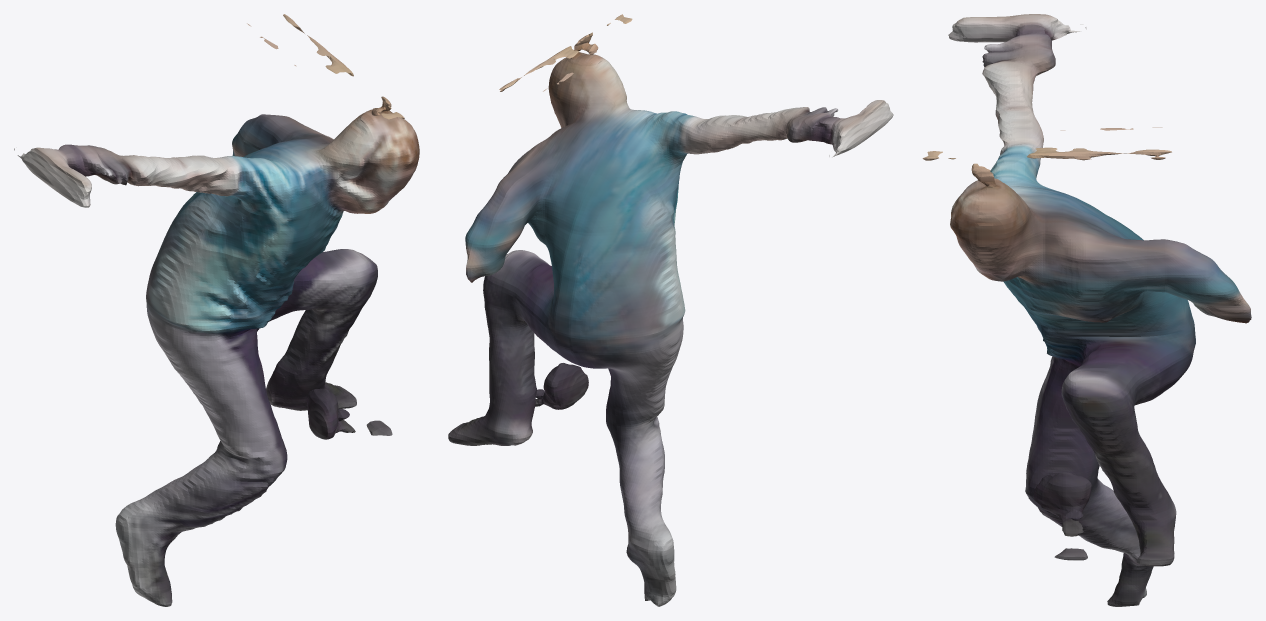
The model's file is 0045_tex.glb.
3 views of the same model, side by side, from view 1: azimuth 30°, elevation 25°; view 2: azimuth 150°, elevation 25°; view 3: azimuth 270°, elevation 25° (orthographic). The views are drawn at different scales.
Visible parts, largest first — view 1: 0045_tex.obj; view 2: 0045_tex.obj; view 3: 0045_tex.obj.
Boxes of the visible parts, box(x1,y1,x2,y2) form: 0045_tex.obj: box(14, 14, 419, 606); 0045_tex.obj: box(448, 14, 893, 606); 0045_tex.obj: box(922, 14, 1251, 606).
Size of the model in its own units: 0.6583 by 0.8958 by 0.506.
